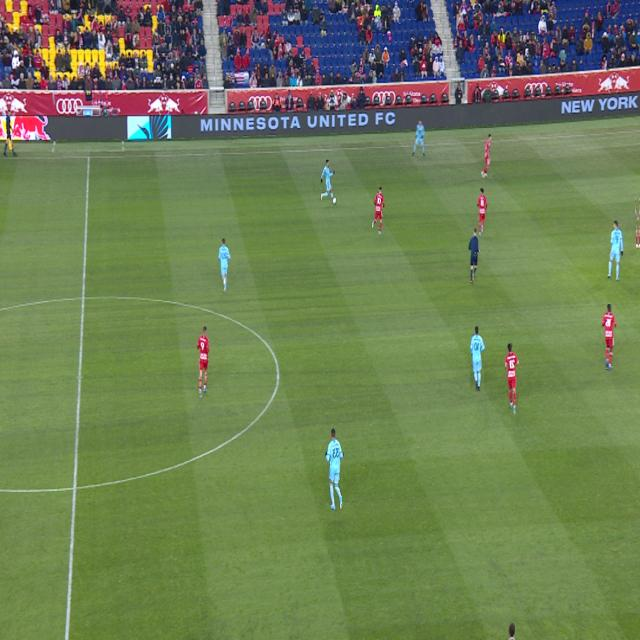football: (333, 197, 336, 204)
player: (326, 428, 343, 510), (505, 343, 519, 415), (197, 326, 210, 400), (608, 221, 623, 281), (602, 304, 616, 368), (471, 326, 484, 391), (321, 160, 336, 206), (372, 187, 385, 236), (219, 239, 230, 293), (412, 119, 425, 157), (481, 135, 492, 179), (477, 188, 487, 236), (508, 623, 515, 640), (636, 223, 640, 249), (636, 195, 639, 222)
referee: (469, 229, 480, 284)
